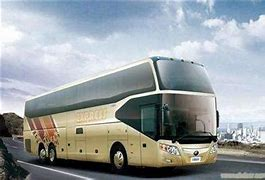bigcar: (20, 50, 224, 176)
